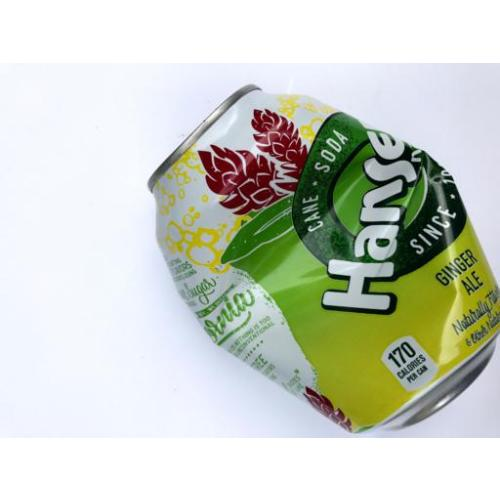metal: (149, 84, 500, 430)
